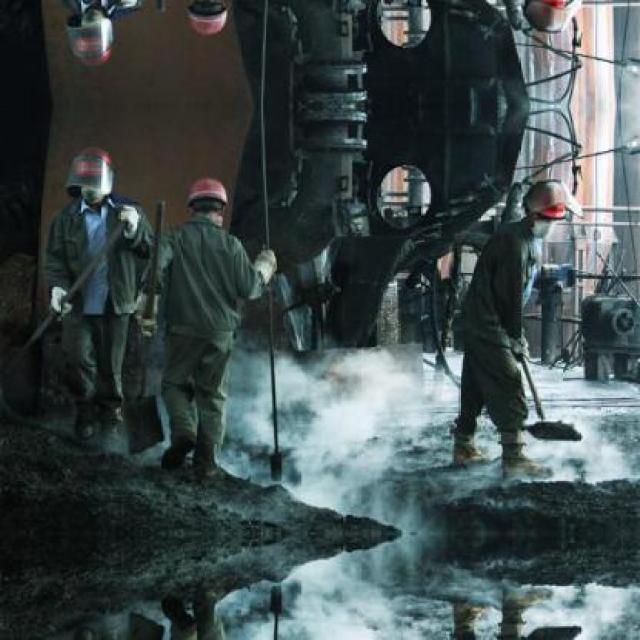helmet: (518, 179, 571, 242), (70, 145, 112, 208), (70, 4, 112, 67), (182, 174, 230, 228), (182, 0, 230, 39), (518, 0, 572, 34)
